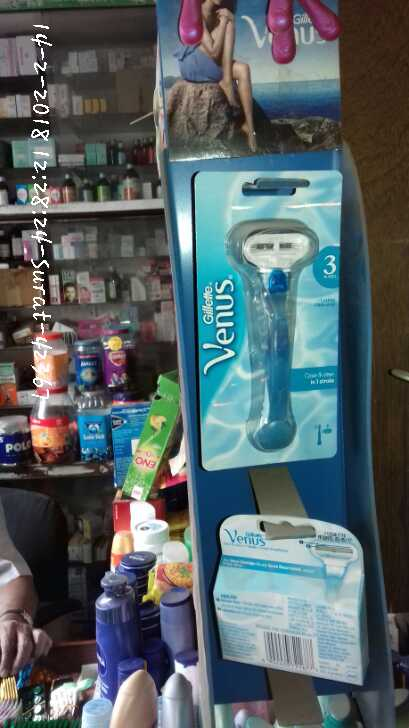venus: (191, 198, 333, 455)
